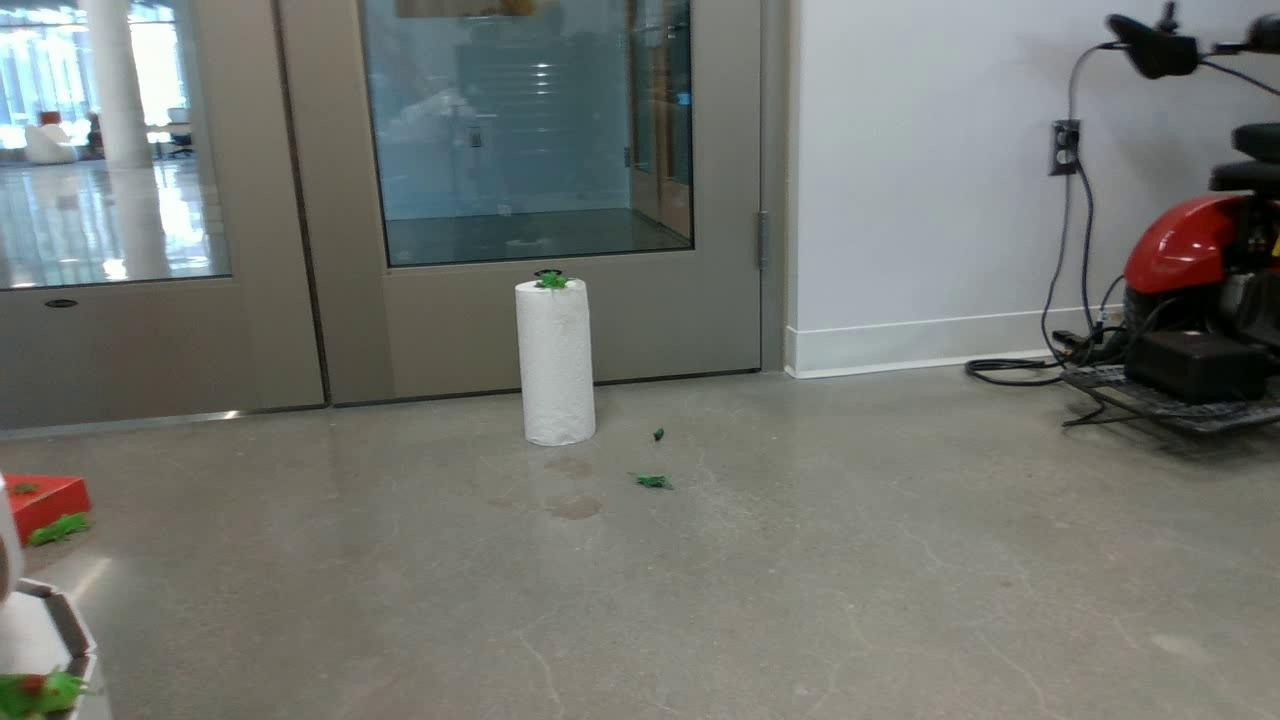grasshopper: (1, 667, 88, 720), (28, 510, 91, 550), (534, 269, 567, 289)
